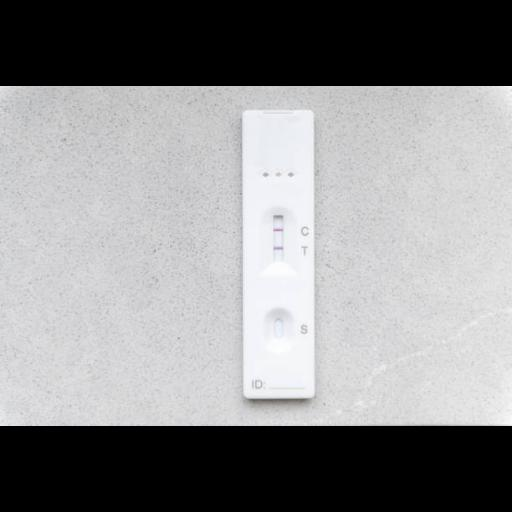Pos: (242, 108, 314, 398)
